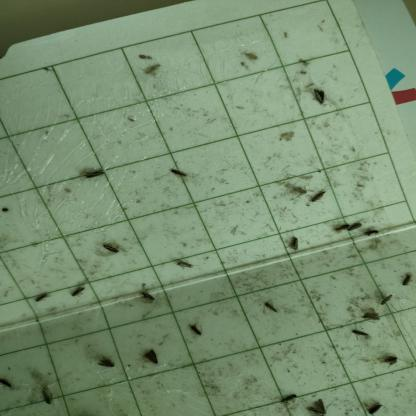prays_oleae: (160, 156, 191, 196), (378, 343, 402, 380), (92, 346, 118, 380), (98, 235, 124, 267), (137, 343, 163, 375), (140, 57, 169, 83), (135, 284, 160, 314), (26, 286, 54, 312), (306, 387, 332, 415), (359, 299, 382, 329), (177, 251, 197, 285), (67, 284, 90, 313), (280, 379, 300, 412), (84, 162, 106, 191), (259, 299, 283, 324), (310, 82, 328, 114), (308, 182, 327, 212), (185, 314, 204, 343), (282, 235, 306, 255), (398, 269, 414, 296), (333, 218, 350, 243), (40, 382, 55, 410), (346, 216, 364, 237), (362, 227, 382, 245), (380, 288, 394, 312), (366, 401, 388, 414), (344, 329, 371, 339)
